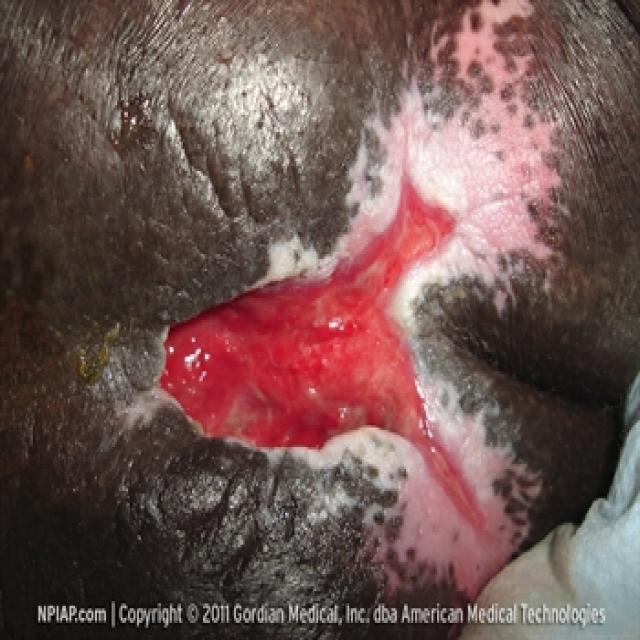stage-3: (160, 187, 481, 519)
